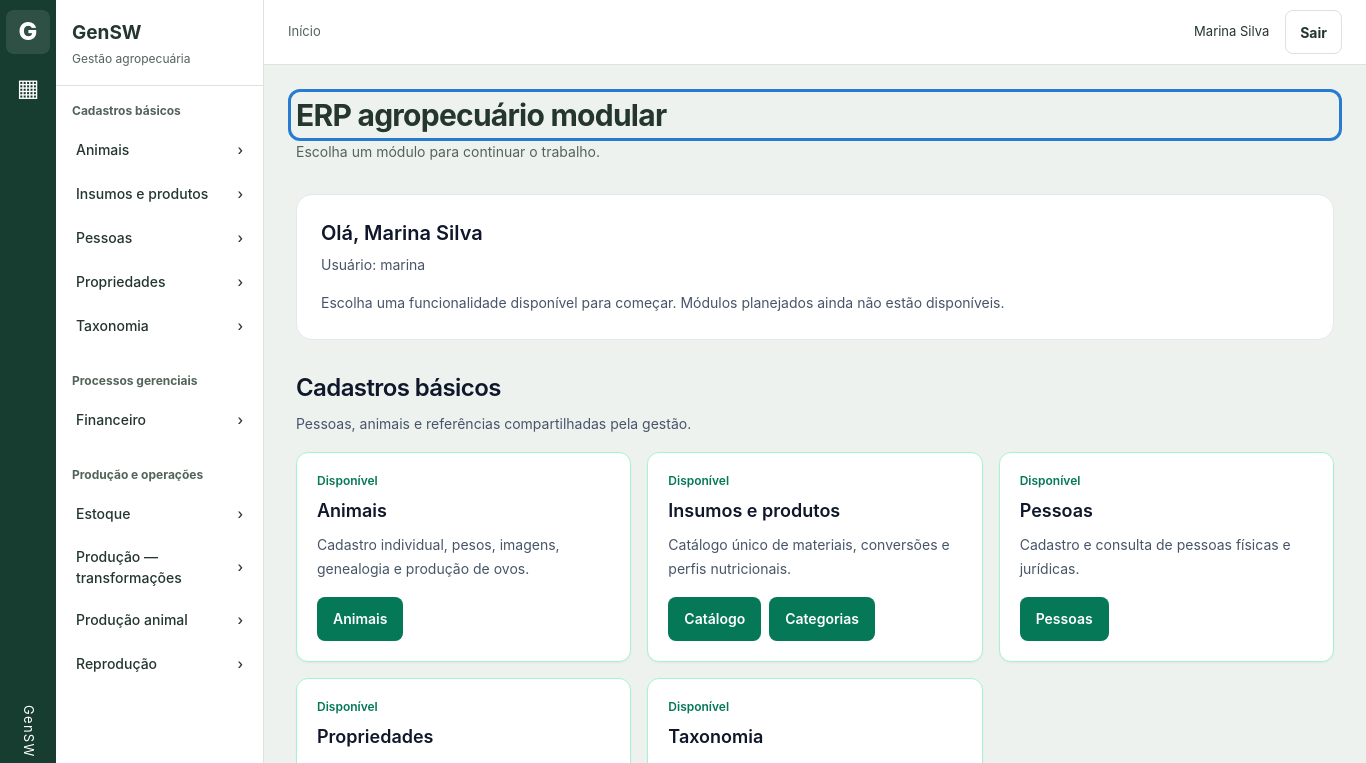
Test: AppRoutes › navega da home autenticada para pessoas
Click the link "Pessoas": [1064, 619] box left=1020, top=597, right=1109, bottom=641
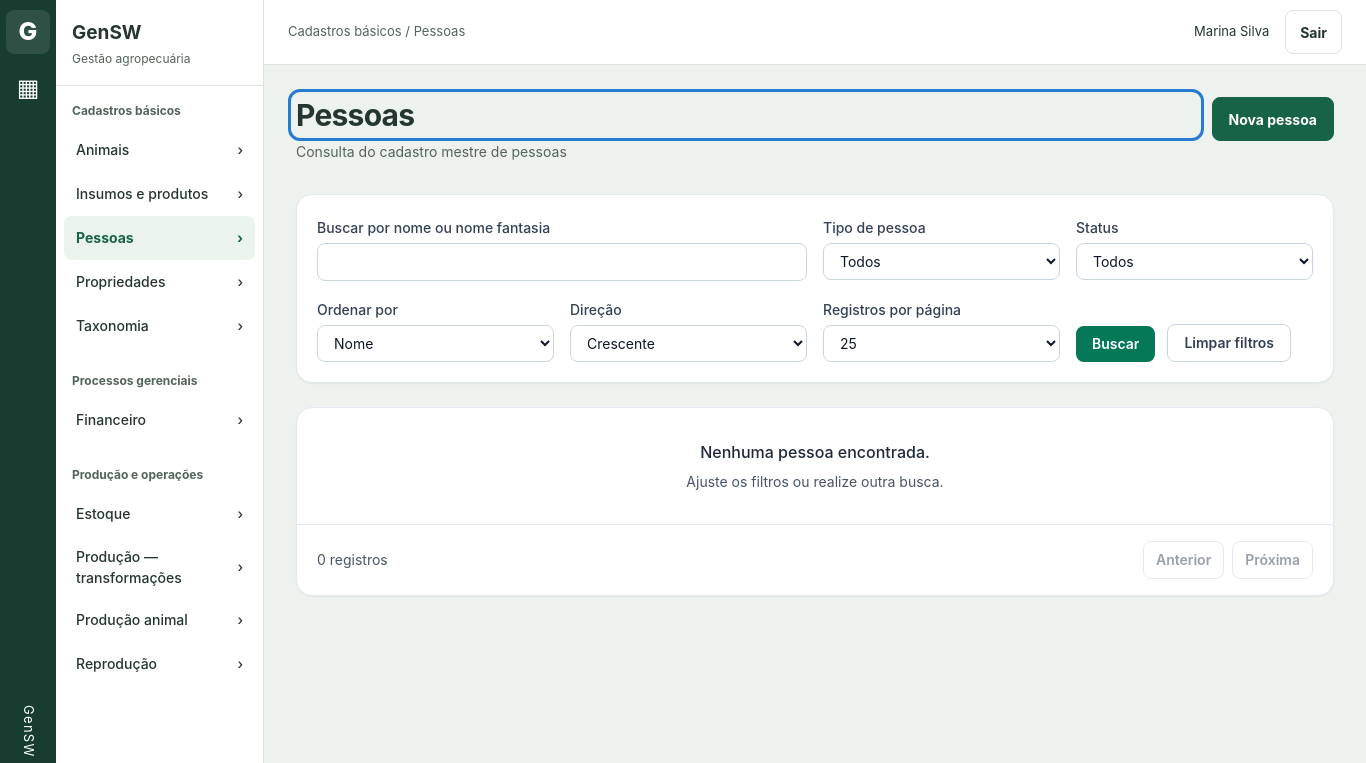
expect the heading "Pessoas" is shown: met, box left=296, top=97, right=414, bottom=133
